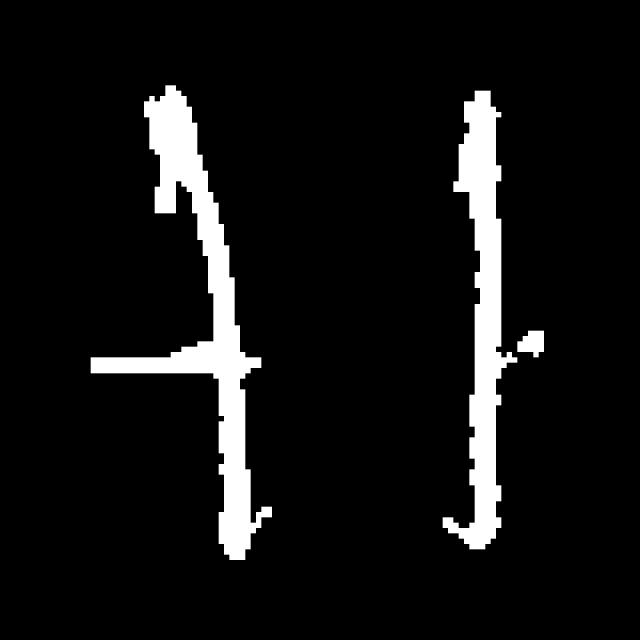capacitor: (146, 78, 525, 572)
